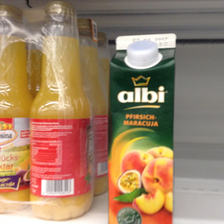juice: (29, 1, 92, 221), (108, 33, 177, 224)
